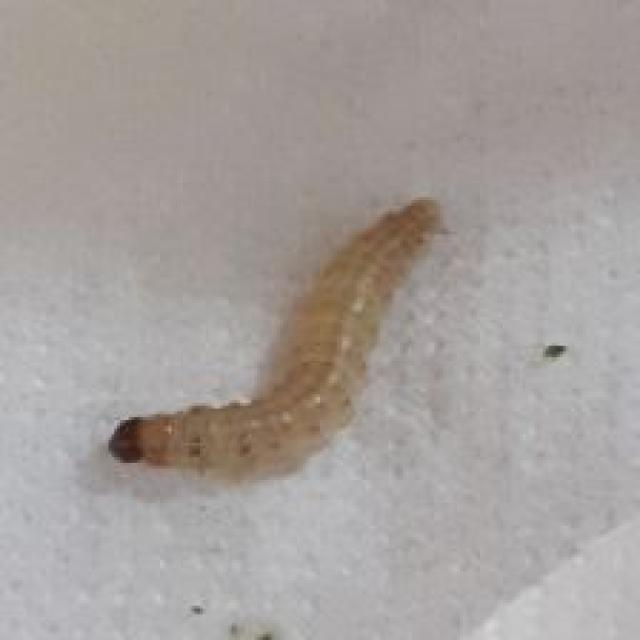white mucus: (86, 144, 491, 481)
